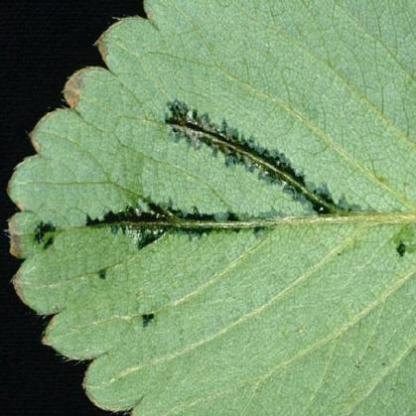Strawberry_Angular_LeafSpot: (26, 98, 415, 332)
